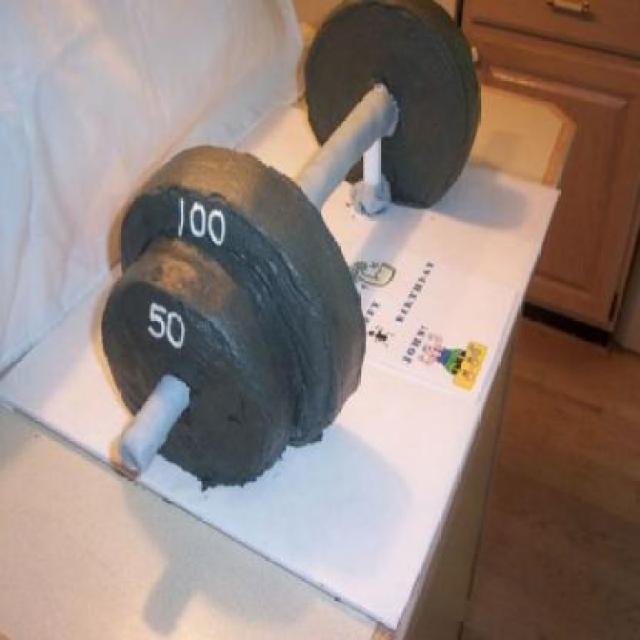barbell: (97, 276, 284, 512)
